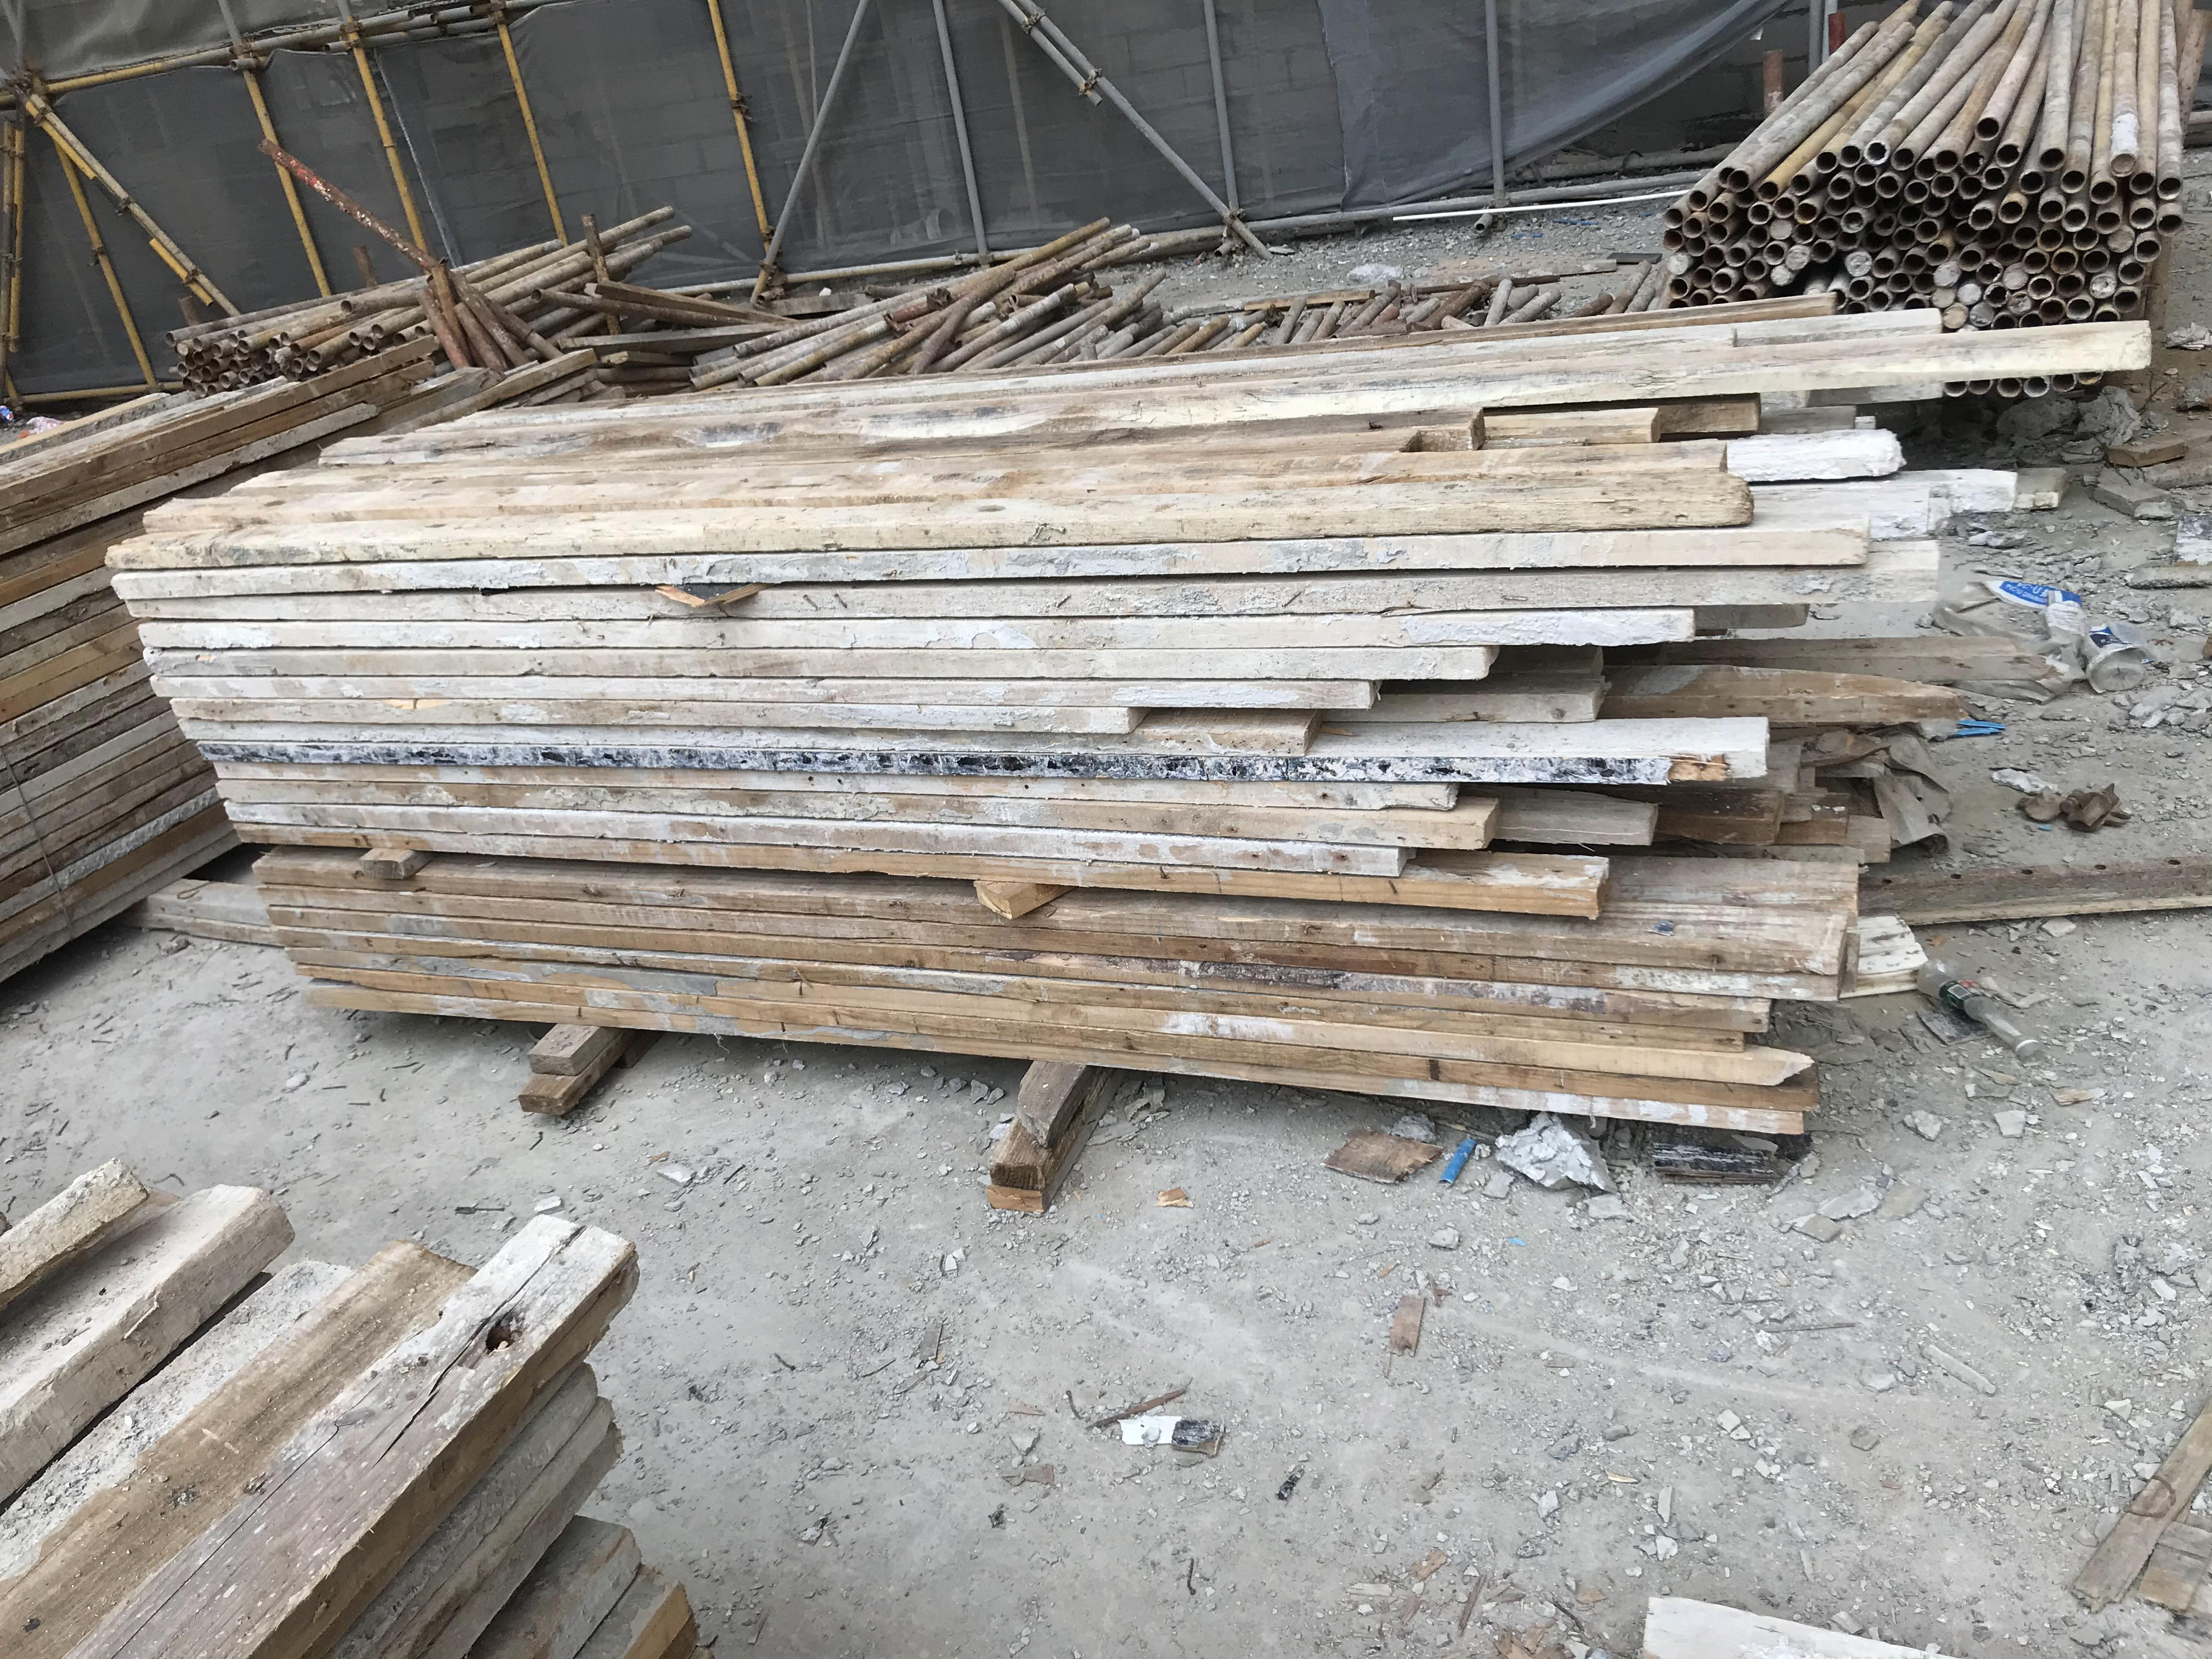scaffold: (686, 216, 1737, 375), (1662, 0, 2202, 303), (145, 195, 637, 390)
wood: (172, 270, 2160, 1080), (0, 1171, 761, 1640), (0, 342, 397, 1002)
